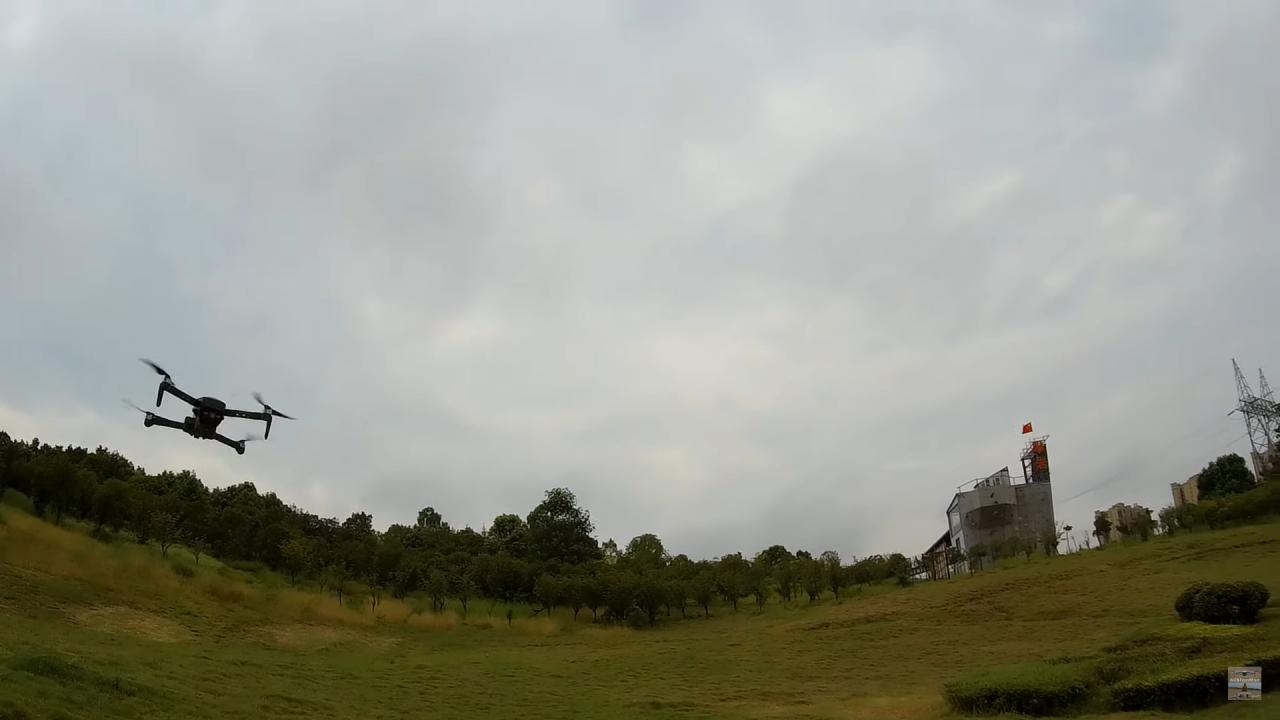Drone: (106, 348, 308, 466)
